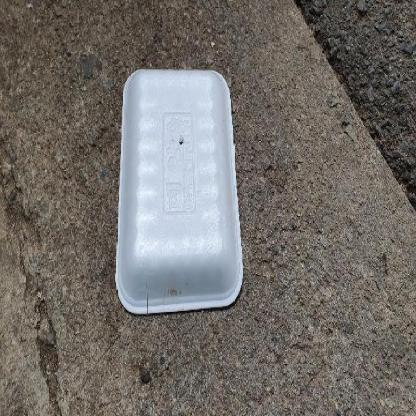Glass Cup: (115, 69, 243, 314), (116, 70, 243, 314)
